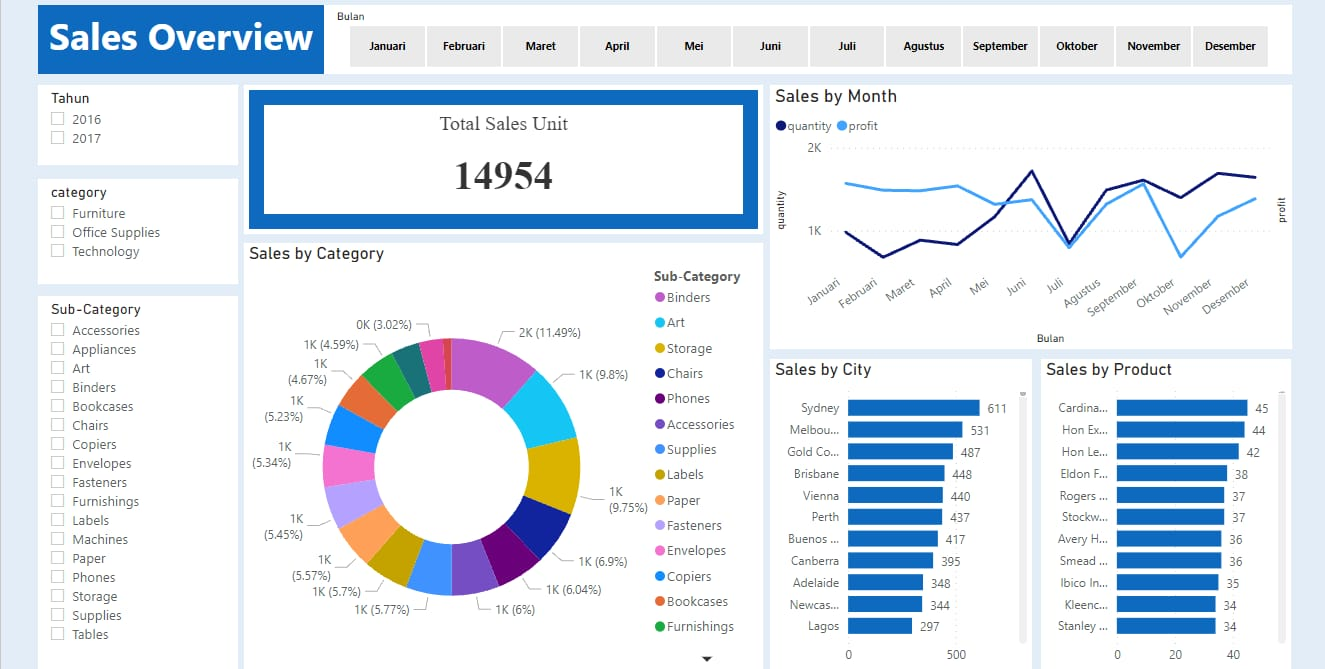

The page's visual inventory and layout, read from the dashboard file:
{"tool":"powerbi","page":{"name":"SO by Unit","canvas":[1280,720],"ordinal":1},"visuals":[{"type":"textbox","box":[11,26.2,286.3,68.8],"z":0},{"type":"slicer","fields":{"Values":["FACT_CustTrx.category"]},"box":[11,199.6,199.6,104.6],"z":1000},{"type":"lineChart","title":"Sales by Month","fields":{"Category":["FACT_CustTrx.Order Date.Variasi.Hierarki Tanggal.Bulan"],"Y":["Sum(FACT_CustTrx.quantity)"],"Y2":["Sum(FACT_CustTrx.profit)"]},"box":[743.2,106,521.6,264.3],"z":2000},{"type":"slicer","fields":{"Values":["FACT_CustTrx.Sub-Category"]},"box":[11,316.6,199.6,377.1],"z":3000},{"type":"slicer","fields":{"Values":["FACT_CustTrx.Order Date.Variasi.Hierarki Tanggal.Tahun"]},"box":[11,106,199.6,79.8],"z":4000},{"type":"slicer","fields":{"Values":["FACT_CustTrx.Order Date.Variasi.Hierarki Tanggal.Bulan"]},"box":[297.3,26.2,967.6,68.8],"z":5000},{"type":"clusteredBarChart","title":"Sales by City","fields":{"Category":["FACT_CustTrx.city"],"Y":["Sum(FACT_CustTrx.quantity)"]},"box":[743.2,379.9,261.5,313.8],"z":6000},{"type":"donutChart","title":"Sales by Category","fields":{"Category":["FACT_CustTrx.Sub-Category"],"Y":["Sum(FACT_CustTrx.quantity)"]},"box":[217.5,264.3,518.9,429.4],"z":7000},{"type":"clusteredBarChart","title":"Sales by Product","fields":{"Category":["FACT_CustTrx.Product Name"],"Y":["Sum(FACT_CustTrx.quantity)"]},"box":[1014.4,379.9,250.5,313.8],"z":8000},{"type":"BBED0A4D4D8D44CE93CF2DAFADEE466C","fields":{"actual":["Sum(FACT_CustTrx.quantity)"]},"box":[217.5,106,518.9,148.6],"z":9000}]}

Visuals, with their boxes on the page's 1280x720 design canvas (x1, y1, x2, y2). These are canvas units, not pixel positions in the 1325x669 screenshot, which may show the page scaled, cropped or inside an application window:
textbox: [left=11, top=26, right=297, bottom=95]
slicer - FACT_CustTrx.category: [left=11, top=200, right=211, bottom=304]
"Sales by Month" lineChart: [left=743, top=106, right=1265, bottom=370]
slicer - FACT_CustTrx.Sub-Category: [left=11, top=317, right=211, bottom=694]
slicer - FACT_CustTrx.Order Date.Variasi.Hierarki Tanggal.Tahun: [left=11, top=106, right=211, bottom=186]
slicer - FACT_CustTrx.Order Date.Variasi.Hierarki Tanggal.Bulan: [left=297, top=26, right=1265, bottom=95]
"Sales by City" clusteredBarChart: [left=743, top=380, right=1005, bottom=694]
"Sales by Category" donutChart: [left=218, top=264, right=736, bottom=694]
"Sales by Product" clusteredBarChart: [left=1014, top=380, right=1265, bottom=694]
BBED0A4D4D8D44CE93CF2DAFADEE466C - Sum(FACT_CustTrx.quantity): [left=218, top=106, right=736, bottom=255]
